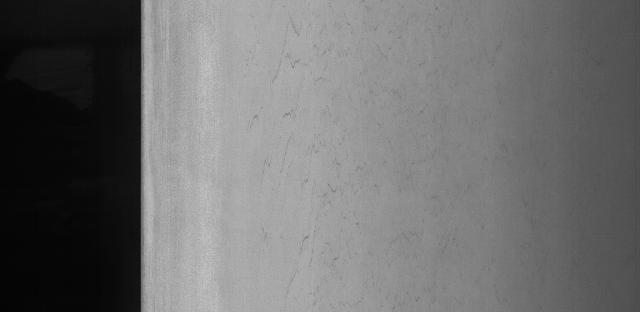silk_spot: (243, 0, 430, 292)
